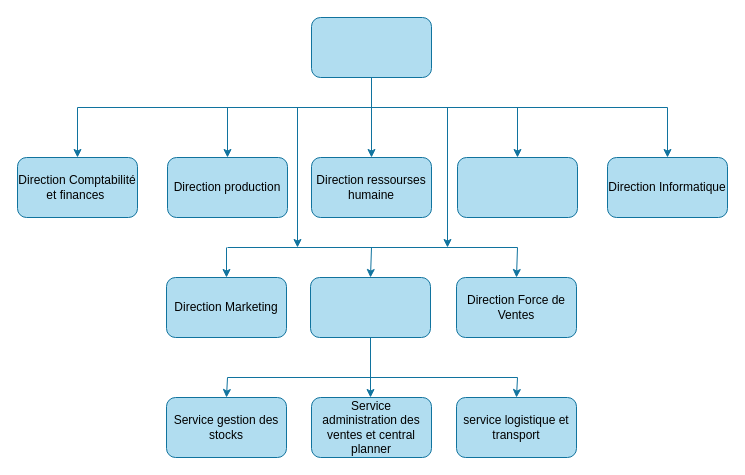
This 745x475 diagram has some shape labels left out. The box of each missing label's shape, as (x1, y1, x2, y2) in pixels:
Direction achats et approvisionement: (456, 156, 578, 218)
Direction Génerale: (310, 16, 432, 78)
Direction supply chain: (310, 276, 430, 338)
